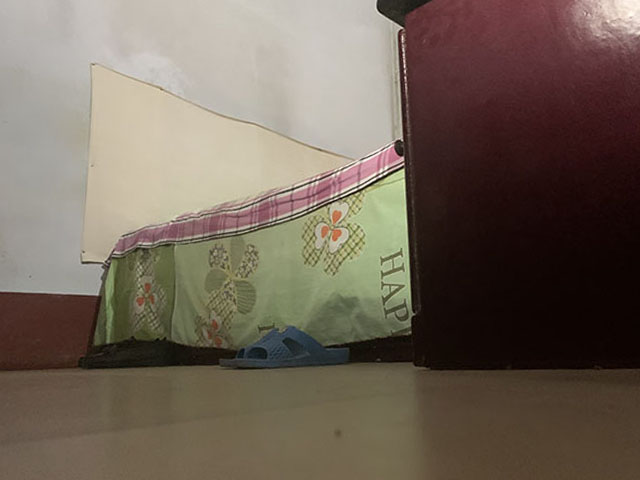bed: (84, 136, 411, 362)
cabinet: (376, 1, 640, 372)
slippers: (218, 323, 353, 371)
